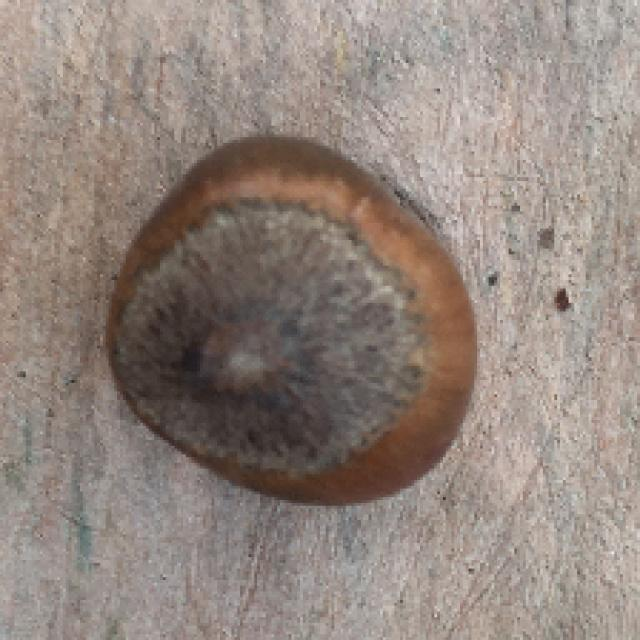qualityHazelnut: (112, 126, 489, 531)
